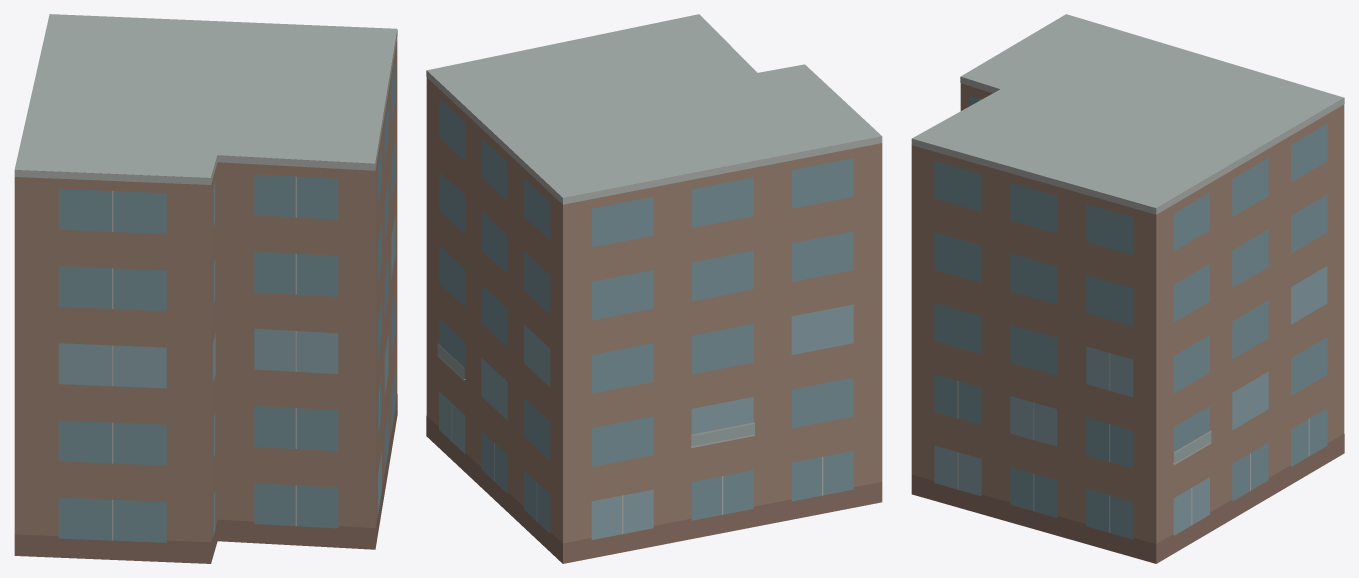
The model's file is survey-upis-32851454.glb.
3 renders of one model, left to right at view 1: azimuth 30°, elevation 25°; view 2: azimuth 150°, elevation 25°; view 3: azimuth 270°, elevation 25°, orthographic. The views are drawn at different scales.
Parts seen in each view (by area): view 1: survey-upis-32851454.tmp; view 2: survey-upis-32851454.tmp; view 3: survey-upis-32851454.tmp.
Part boxes in pixels (<box>): survey-upis-32851454.tmp: <box>14,14,397,563</box>; survey-upis-32851454.tmp: <box>426,14,882,563</box>; survey-upis-32851454.tmp: <box>911,14,1344,563</box>.
Size of the model in its own units: 15.58 by 13.3 by 14.67.
